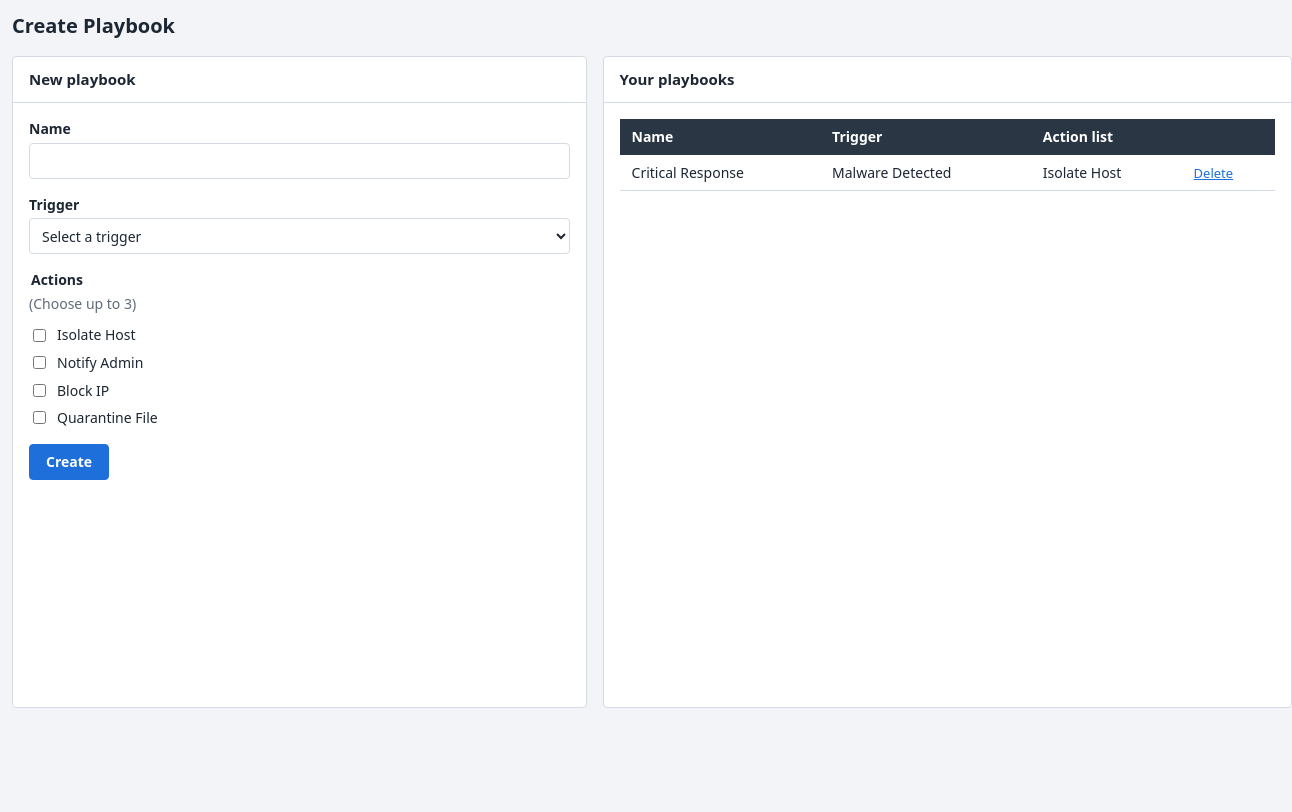
Test: CreatePlaybookPage › deletes a playbook after confirmation
This screenshot has width=1292, height=812.
Expected: the checkbox labelled "Isolate Host" is shown, [33,329,46,342]
Click the button with aria-label "Delete playbook Critical Response": point(1213, 173) [1194,164,1233,182]
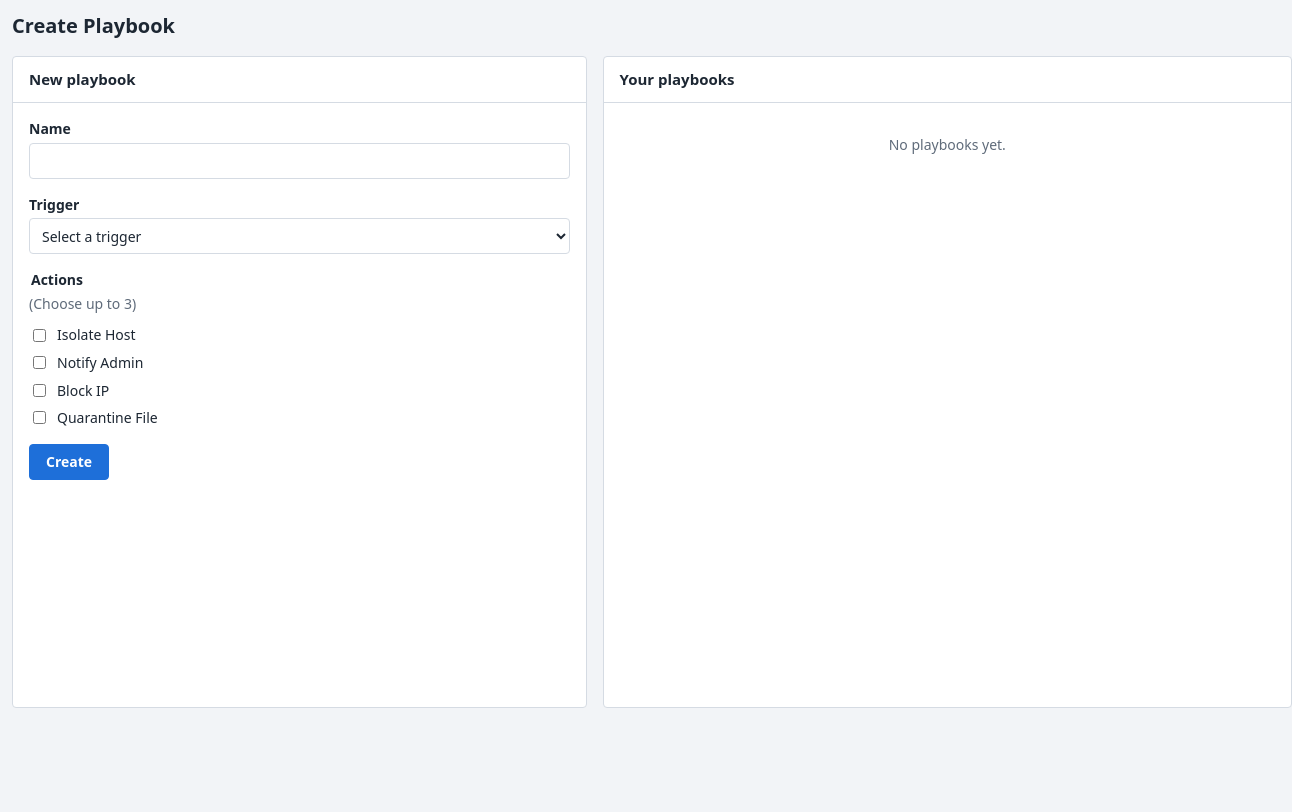
Now the text "Critical Response" is gone
